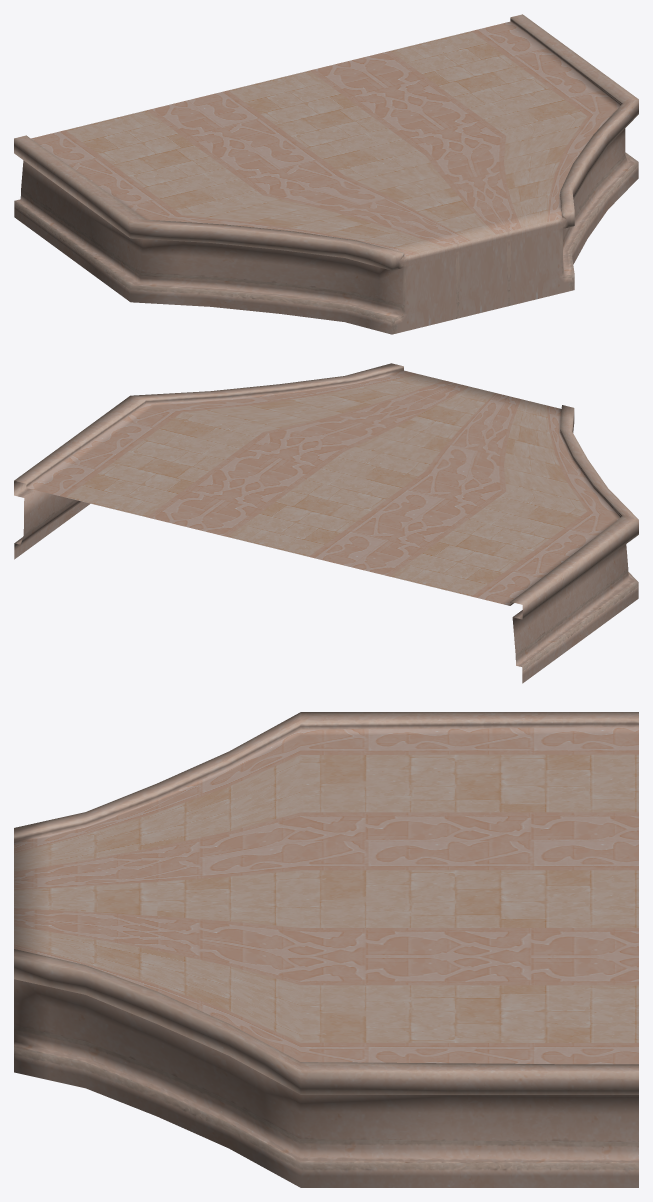
Rendered from 弹幕起始和结束路段.fbx.
3 views of the same model, one above another, from view 1: azimuth 30°, elevation 25°; view 2: azimuth 150°, elevation 25°; view 3: azimuth 270°, elevation 25° (orthographic). The views are drawn at different scales.
Visible parts, largest first — view 1: 平面.038; view 2: 平面.038; view 3: 平面.038.
Part boxes in pixels (left/top/right/bottom): 平面.038: left=14, top=14, right=638, bottom=334; 平面.038: left=14, top=363, right=638, bottom=683; 平面.038: left=14, top=712, right=638, bottom=1187.
Size of the model in its own units: 862 by 128 by 630.
